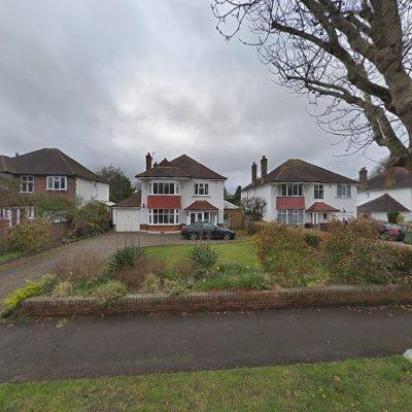stationary-car-offstreet: (180, 220, 236, 244), (371, 222, 405, 242)
